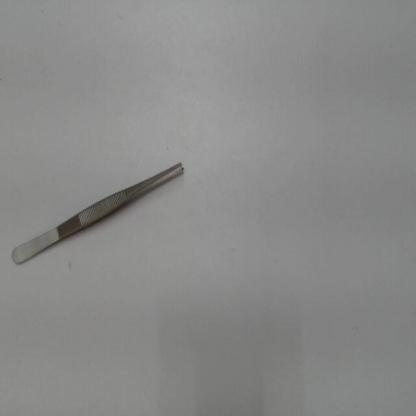Gillies Toothed Dissector: (2, 146, 201, 277)
